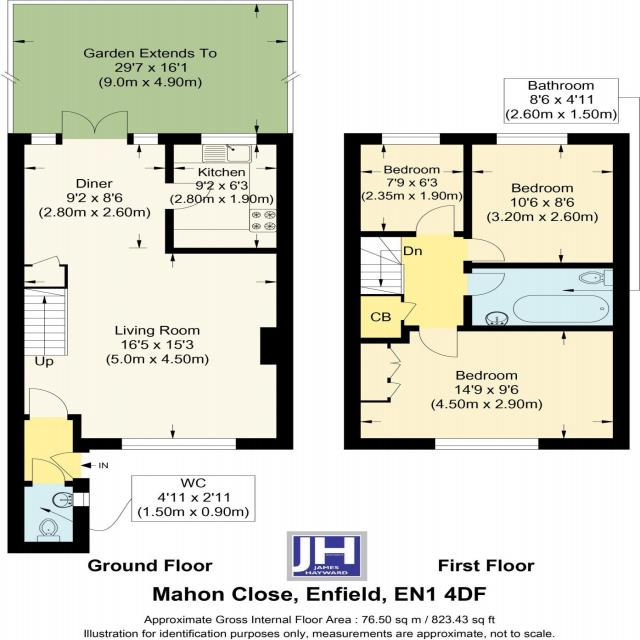DOOR: (414, 325, 462, 359), (413, 203, 458, 237), (165, 181, 215, 211), (28, 386, 71, 420), (27, 456, 72, 487), (463, 271, 508, 299), (47, 451, 89, 479), (463, 236, 506, 263)
DOUBLE DOOR: (56, 105, 133, 142)
ROOM: (4, 105, 290, 450), (343, 325, 630, 450), (464, 133, 630, 269), (165, 133, 293, 254), (344, 133, 473, 237)
WINDOW: (431, 435, 544, 454), (119, 436, 238, 451), (494, 131, 570, 147), (378, 130, 444, 147), (199, 131, 259, 146), (28, 131, 60, 147), (132, 132, 160, 146)
